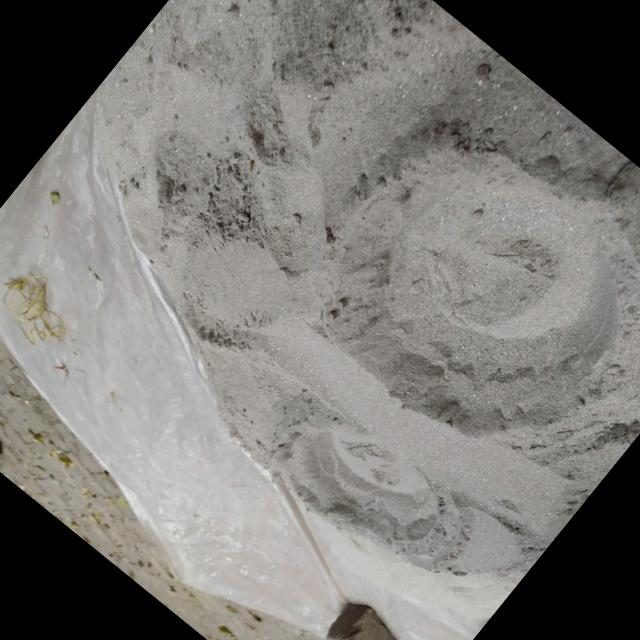C20: (379, 156, 616, 433), (293, 426, 439, 542)
